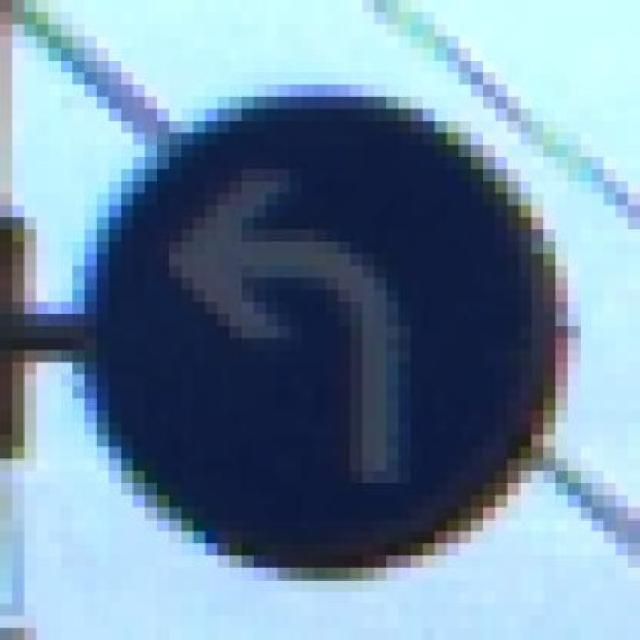Turn left ahead: (85, 72, 592, 592)
